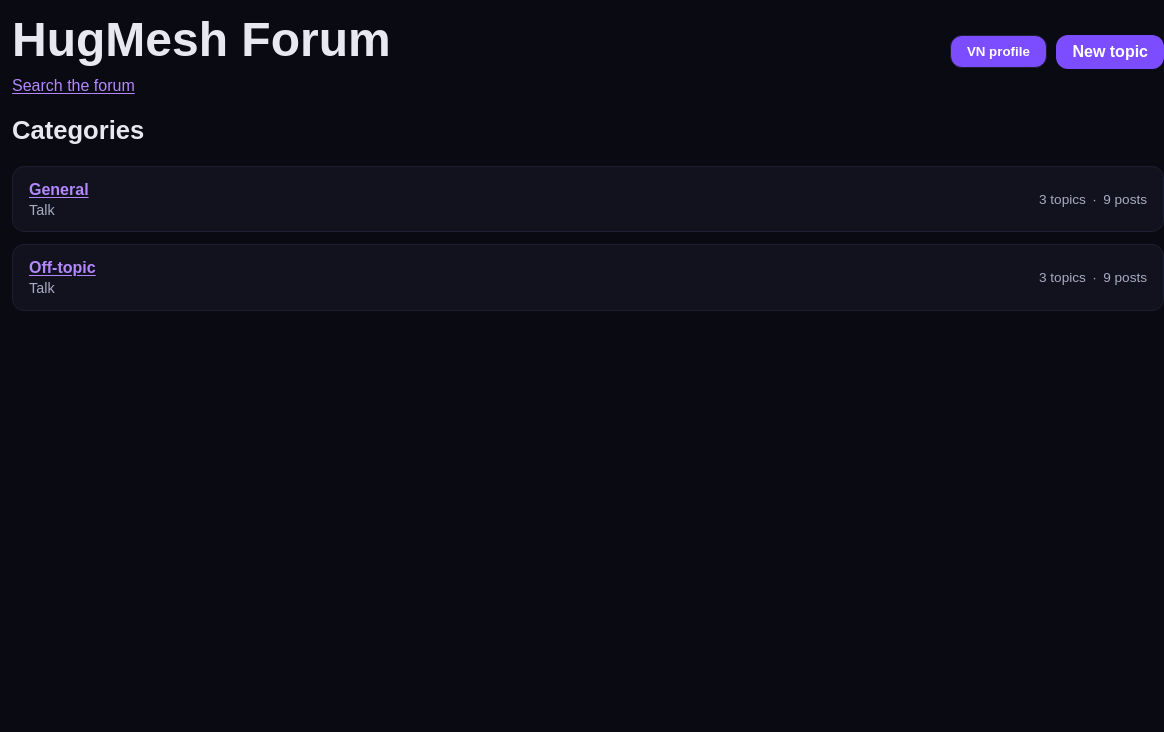
Test: ForumIndexComponent › Escape closes the editor panel and returns focus to the toggle (a11y focus management)
Click the button with test id "vn-profile-toggle" at (998, 52), box [950,35,1047,68]
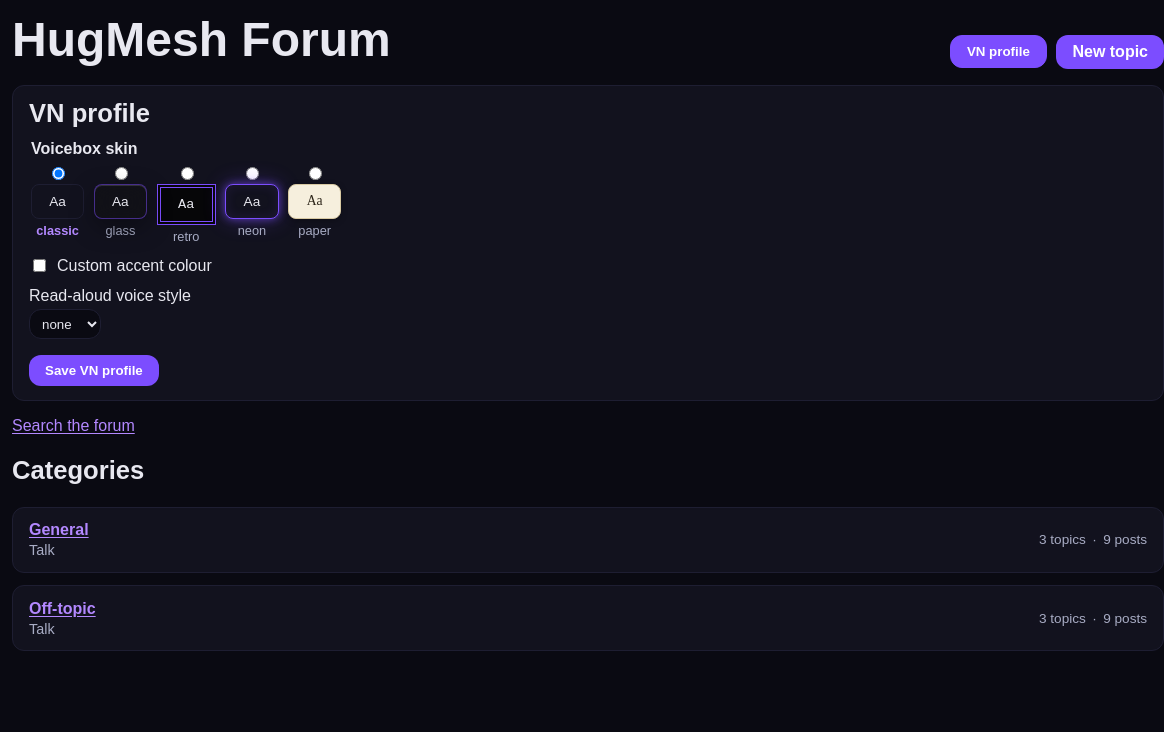
Press Escape in the element with id "vn-editor-panel", box [12,84,1163,401]
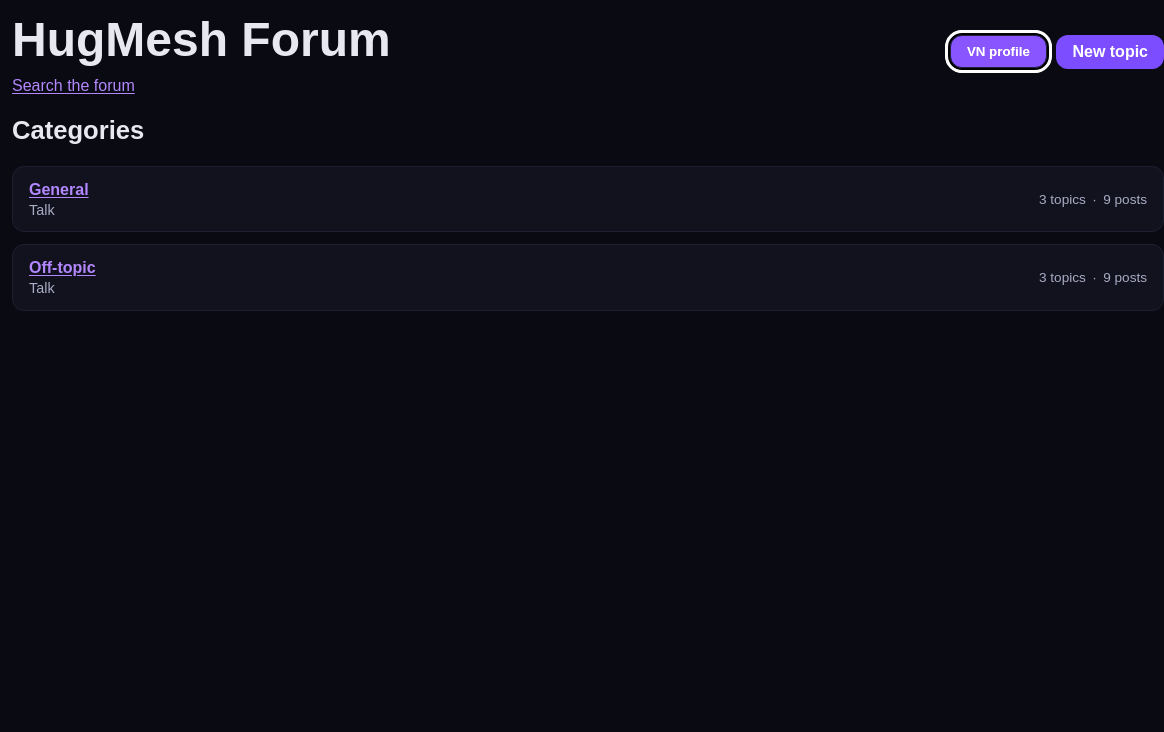
Expected: the element with test id "vn-editor" is gone
